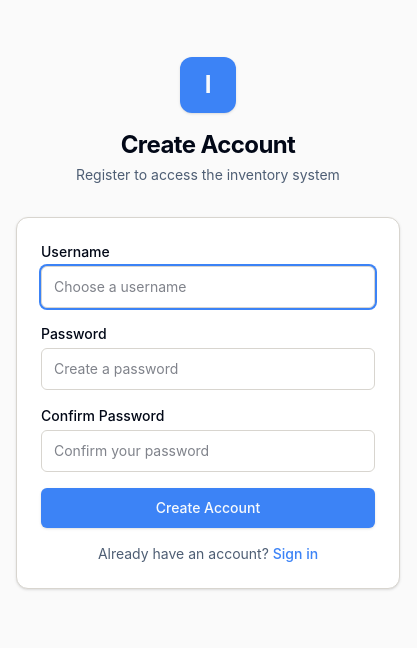
Test: Register › shows error message on API failure
The width and height of the screenshot is (417, 648).
Type "existing" into the field labelled "Username" at {"x": 208, "y": 287}, box [41,266,375,308]
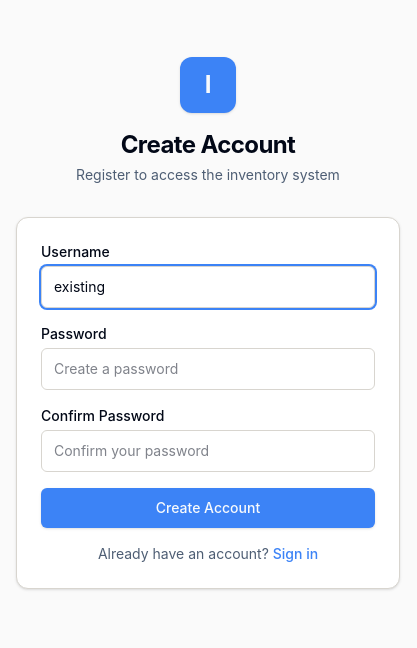
Type "secure123" into the password field labelled "Password" at {"x": 208, "y": 369}, box [41,348,375,390]
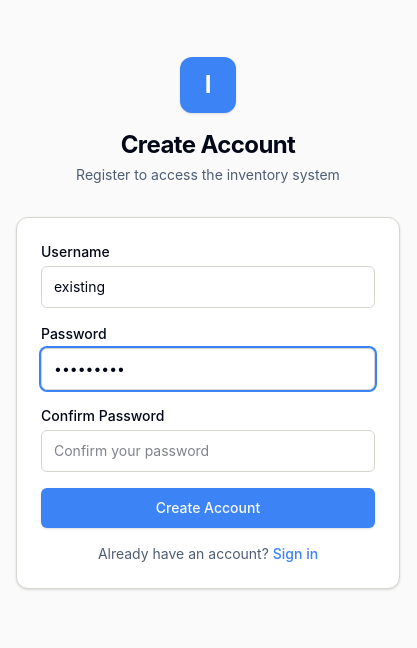
Type "secure123" into the password field labelled "Confirm Password" at {"x": 208, "y": 451}, box [41,430,375,472]
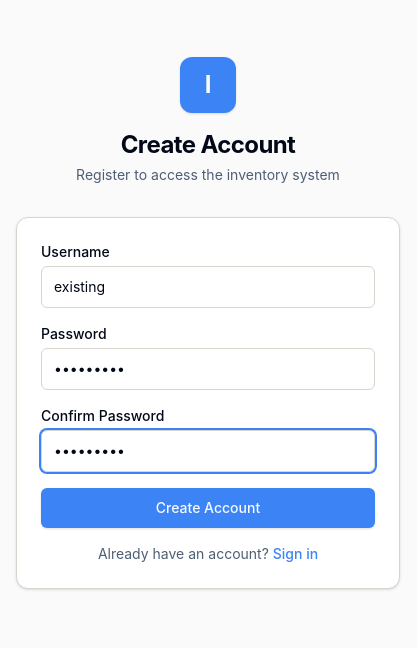
Click the button "Create Account" at {"x": 208, "y": 508}, box [41,488,375,528]
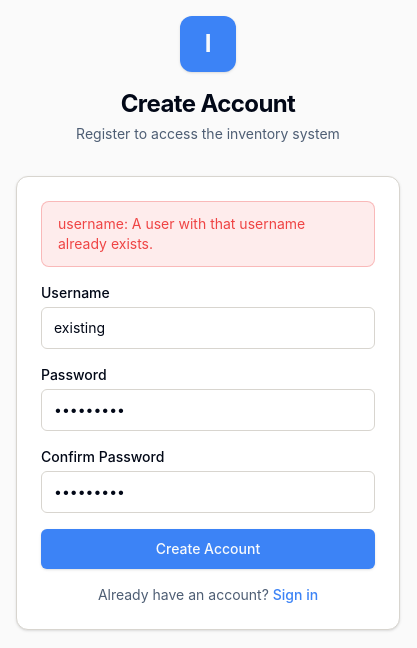
expect the text "username: A user with that username already exists." is shown: met, box [41,201,375,267]
